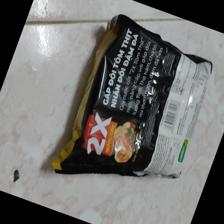3mien: (47, 12, 215, 183)
